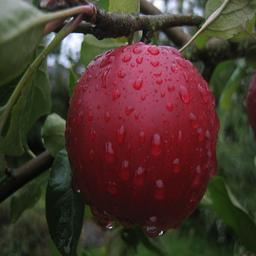apple: (63, 41, 217, 230)
